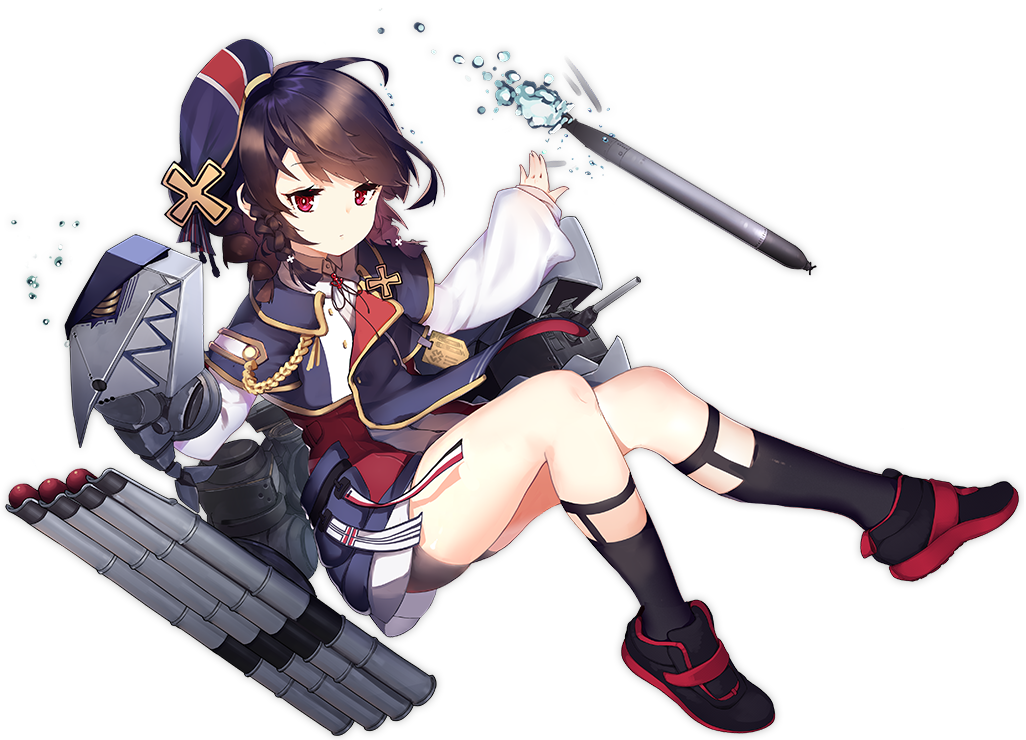person: (30, 25, 667, 740)
